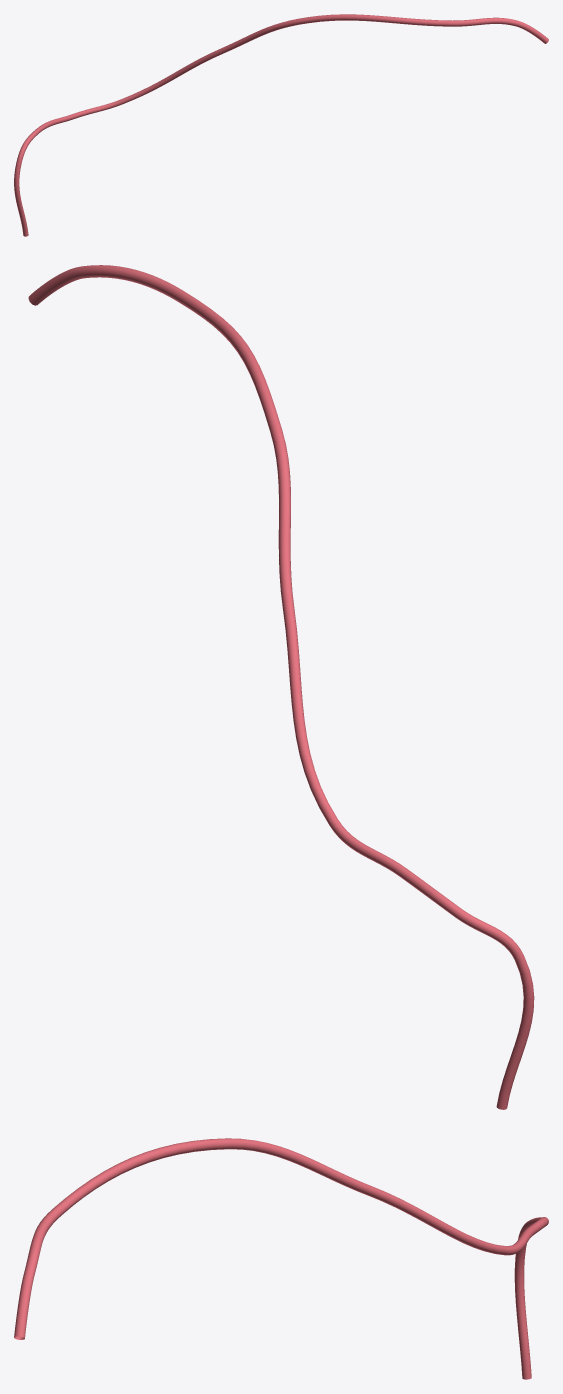
3 renders of one model, top to bottom at view 1: azimuth 30°, elevation 25°; view 2: azimuth 150°, elevation 25°; view 3: azimuth 270°, elevation 25°, orthographic. The views are drawn at different scales.
Visible parts, largest first — view 1: ZA_5ed37d8ff10c4529; view 2: ZA_5ed37d8ff10c4529; view 3: ZA_5ed37d8ff10c4529.
Boxes of the visible parts, x1,y1,x2,y2 form: ZA_5ed37d8ff10c4529: (14, 14, 548, 236); ZA_5ed37d8ff10c4529: (28, 265, 534, 1109); ZA_5ed37d8ff10c4529: (14, 1138, 548, 1379).
Size of the model in its own units: 0.1015 by 0.0598 by 0.0676.
